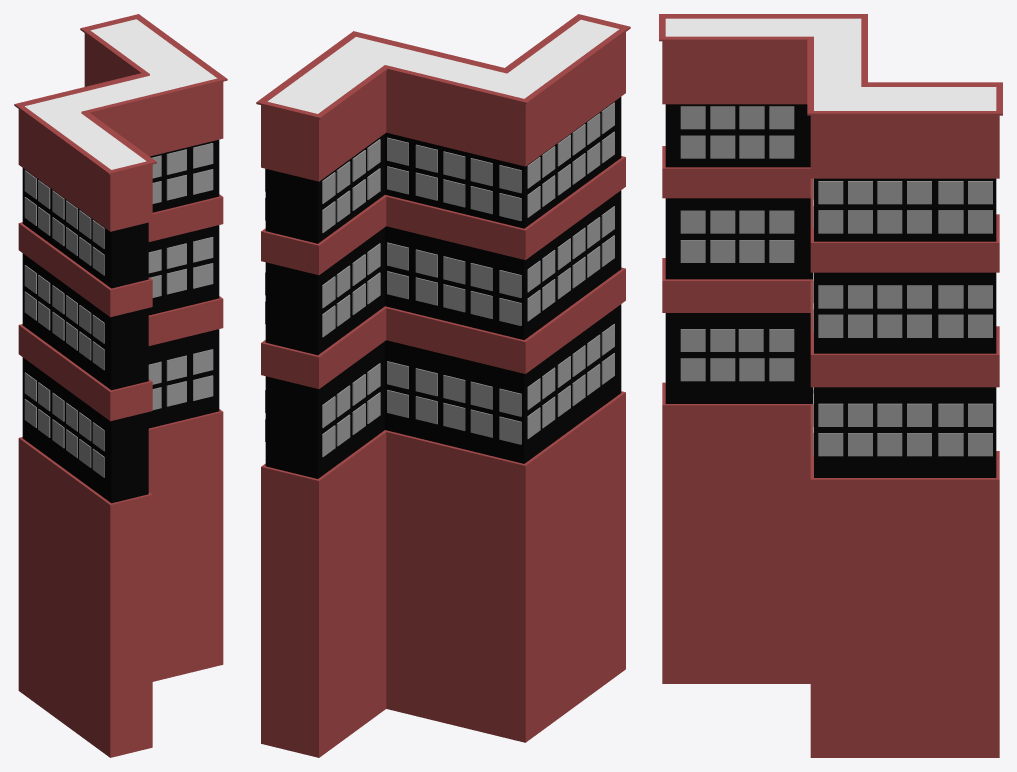
File: Building_V1.fbx
3 renders of one model, left to right at view 1: azimuth 30°, elevation 25°; view 2: azimuth 150°, elevation 25°; view 3: azimuth 270°, elevation 25°, orthographic. The views are drawn at different scales.
Visible parts, largest first — view 1: Platform_6x6, Ventranas; view 2: Platform_6x6, Ventranas; view 3: Platform_6x6, Ventranas.
Boxes of the visible parts, <box> form: Platform_6x6: <box>14,14,227,757</box>; Ventranas: <box>24,143,213,477</box>; Platform_6x6: <box>256,14,630,757</box>; Ventranas: <box>265,102,614,457</box>; Platform_6x6: <box>659,14,1002,757</box>; Ventranas: <box>680,106,992,456</box>.
Bounding box in the file's own units: 7005 × 21134 × 10201.
